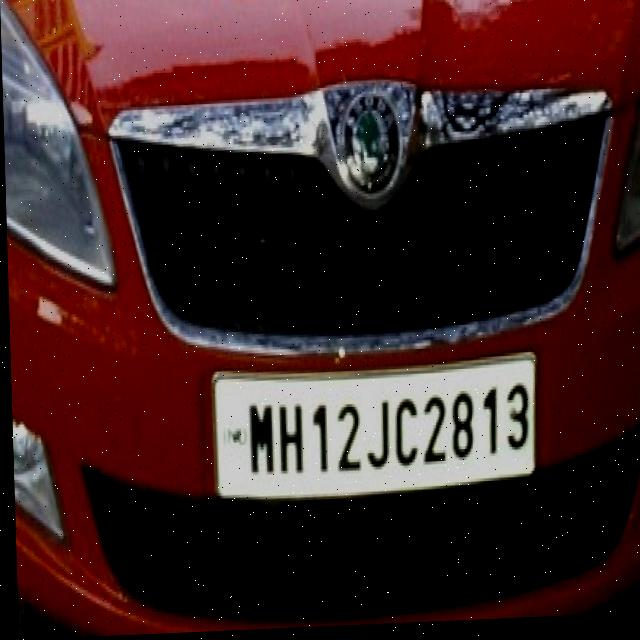plate: (205, 354, 536, 506)
